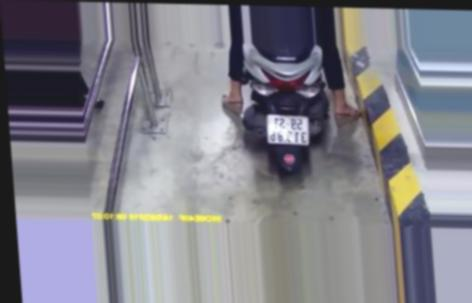License_Plate: (261, 112, 315, 147)
